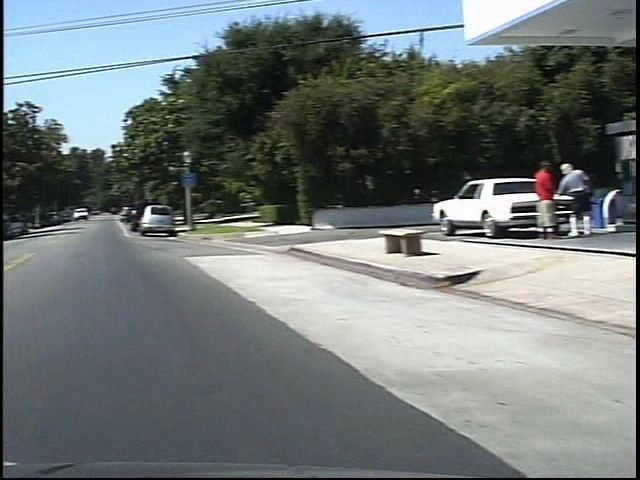person: (527, 158, 569, 242), (514, 155, 544, 242)
